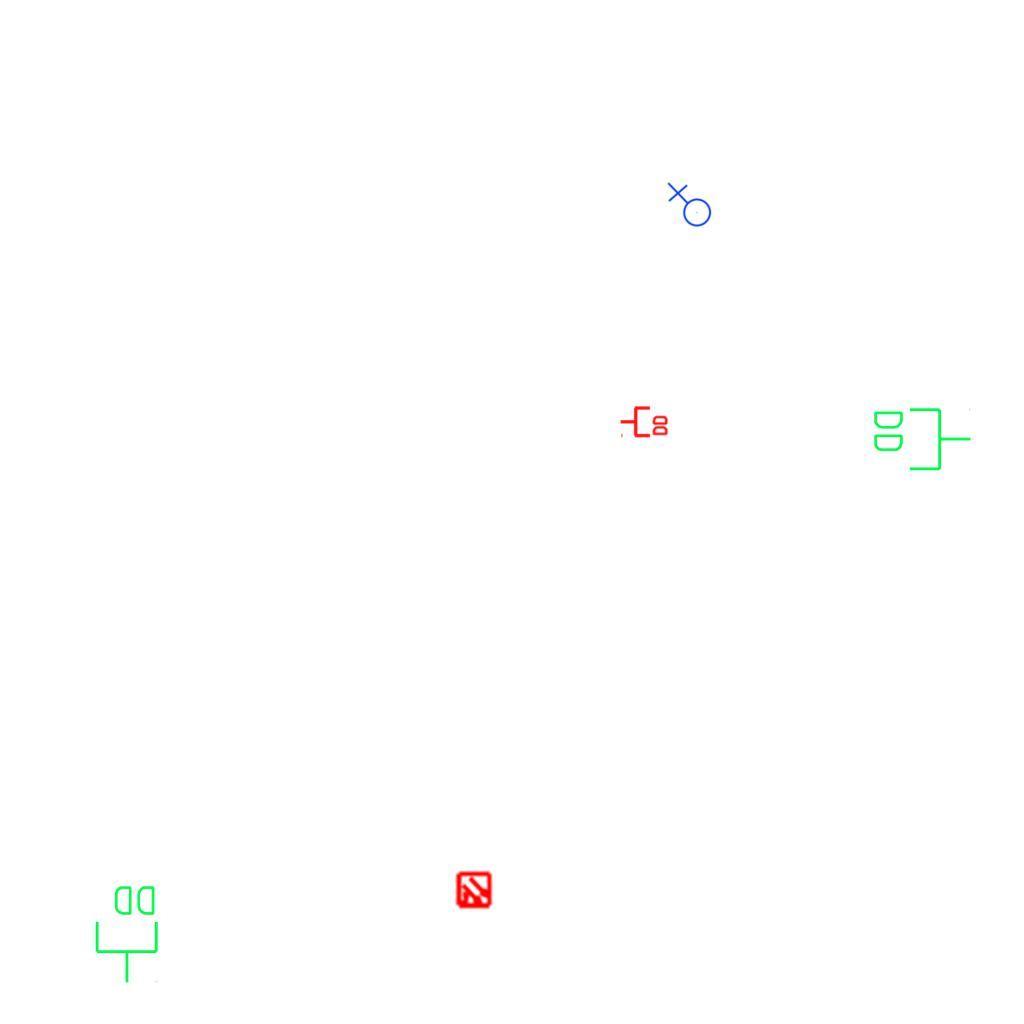Datenanschluss_zweifach: (93, 882, 162, 985), (870, 404, 973, 473), (619, 404, 670, 438)
Elektroanschluss_allgemein_230V_Geraeteanschlussdose_230V: (665, 182, 712, 231)
OT_Multisensormelder_(Kombination_RMO_WMD): (446, 863, 502, 919)
